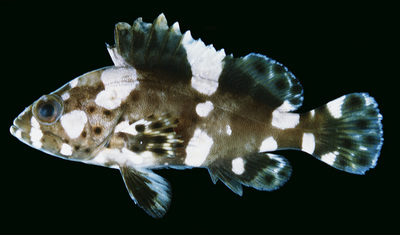fish: (10, 12, 384, 218)
